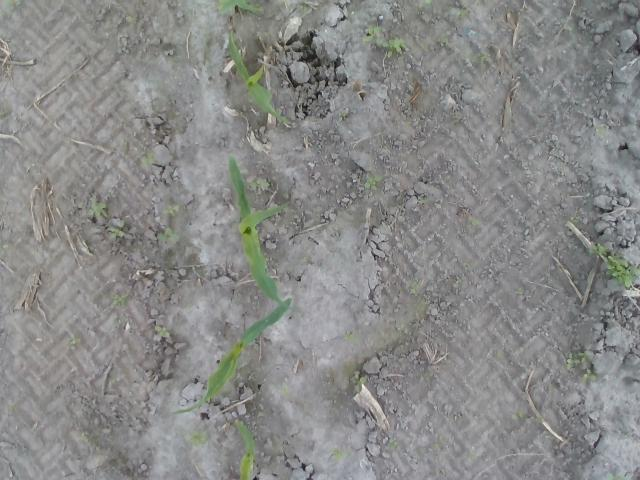Maize: (168, 298, 292, 424), (226, 154, 299, 314), (226, 28, 293, 123), (234, 419, 256, 480), (216, 0, 260, 15)
Weeds: (605, 256, 640, 288), (380, 36, 408, 57), (87, 200, 109, 220), (157, 226, 183, 241), (363, 26, 386, 42), (350, 373, 367, 394), (566, 350, 590, 364), (363, 174, 382, 190), (190, 432, 208, 448), (248, 178, 270, 191), (160, 204, 180, 216), (153, 325, 170, 338), (342, 332, 360, 344), (583, 368, 598, 382), (590, 244, 609, 255), (109, 227, 125, 239), (112, 294, 128, 305), (65, 334, 80, 345), (511, 408, 524, 420), (421, 0, 434, 10), (608, 472, 624, 480), (142, 154, 154, 164), (479, 50, 488, 62), (278, 384, 288, 394), (388, 440, 398, 449), (440, 35, 448, 46), (336, 450, 342, 462), (338, 111, 346, 120), (471, 219, 481, 226), (514, 288, 524, 295)
